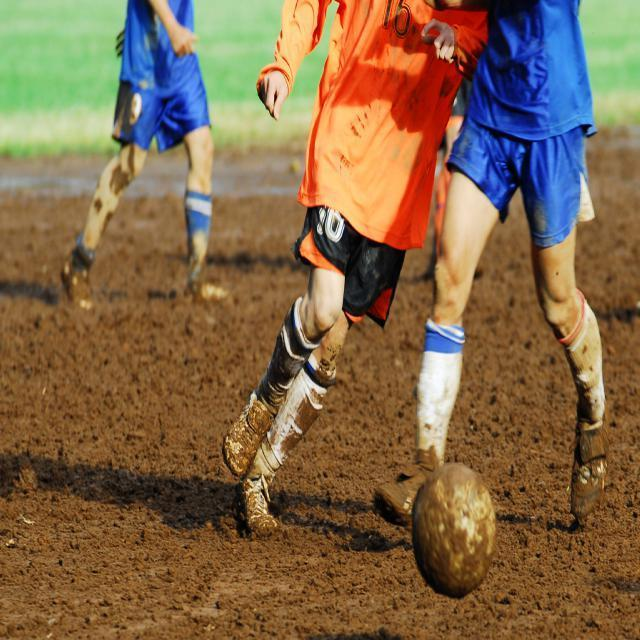football: (397, 472, 530, 587)
